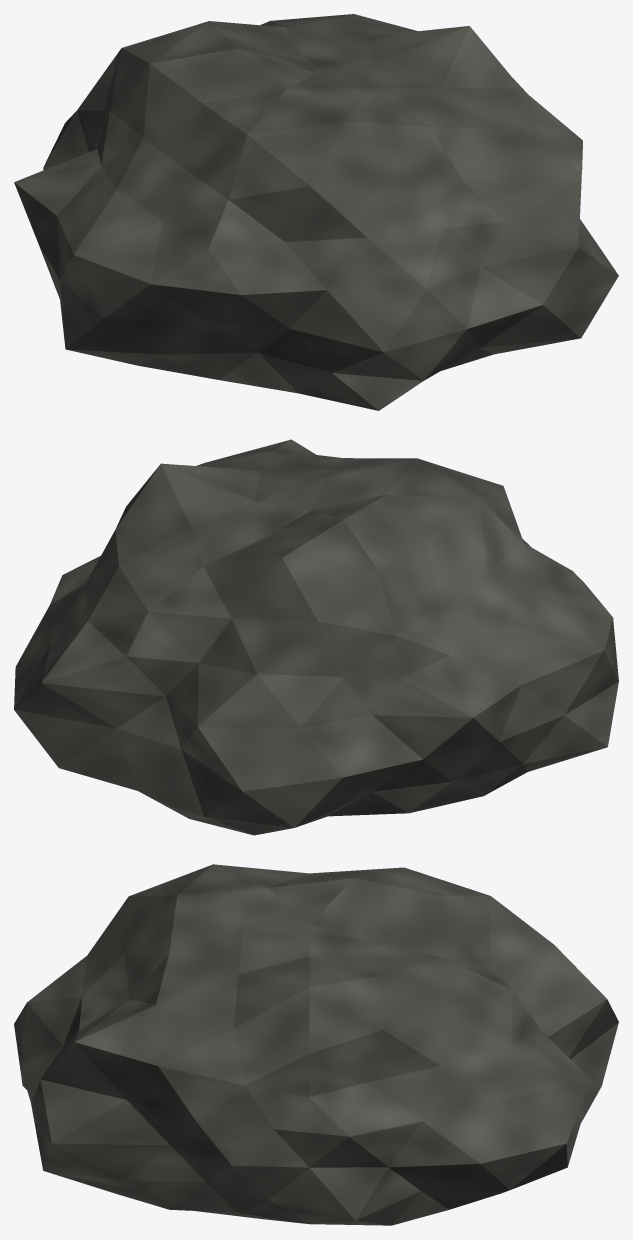
The model's file is Rock_29.fbx.
3 renders of one model, top to bottom at view 1: azimuth 30°, elevation 25°; view 2: azimuth 150°, elevation 25°; view 3: azimuth 270°, elevation 25°, orthographic. The views are drawn at different scales.
Parts seen in each view (by area): view 1: Rock_29; view 2: Rock_29; view 3: Rock_29.
Part boxes in pixels (bbox=[...]): Rock_29: bbox=[14, 14, 618, 410]; Rock_29: bbox=[14, 439, 618, 835]; Rock_29: bbox=[14, 864, 618, 1225].
Size of the model in its own units: 205 by 94.25 by 216.
